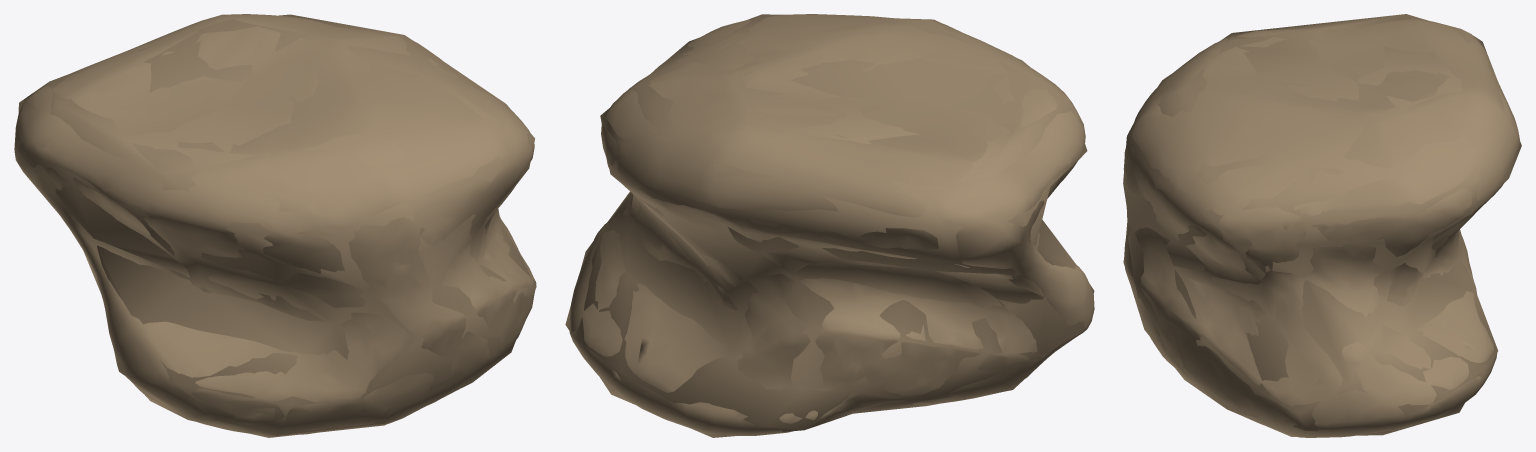
File: boulder_4.glb
3 views of the same model, side by side, from view 1: azimuth 30°, elevation 25°; view 2: azimuth 150°, elevation 25°; view 3: azimuth 270°, elevation 25° (orthographic). The views are drawn at different scales.
Visible parts, largest first — view 1: Boulder_4, Boulder_4_Far; view 2: Boulder_4, Boulder_4_Far; view 3: Boulder_4, Boulder_4_Far.
Part boxes in pixels (box(x1,y1,x2,y2)): Boulder_4: box(14, 14, 535, 435); Boulder_4_Far: box(18, 14, 536, 437); Boulder_4: box(569, 14, 1094, 435); Boulder_4_Far: box(565, 14, 1094, 437); Boulder_4: box(1123, 19, 1520, 437); Boulder_4_Far: box(1123, 14, 1521, 436).
Size of the model in its own units: 3.03 by 2.01 by 2.51.
